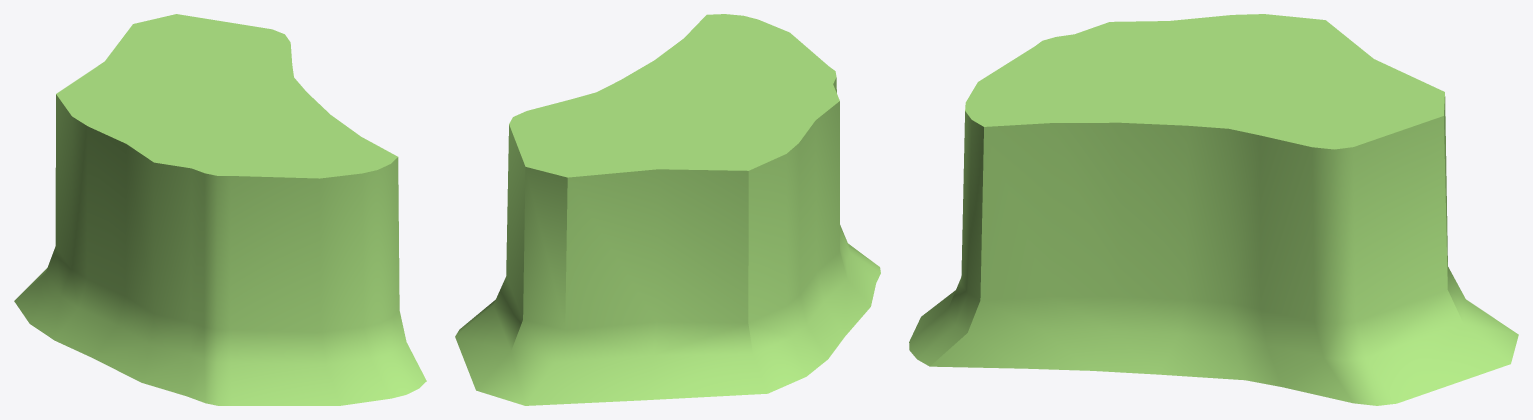
File: IslandNeutral2.fbx
3 renders of one model, left to right at view 1: azimuth 30°, elevation 25°; view 2: azimuth 150°, elevation 25°; view 3: azimuth 270°, elevation 25°, orthographic. The views are drawn at different scales.
Parts seen in each view (by area): view 1: IslandNeutral2; view 2: IslandNeutral2; view 3: IslandNeutral2.
Boxes of the visible parts, bbox=[...] form: IslandNeutral2: bbox=[14, 14, 426, 405]; IslandNeutral2: bbox=[455, 14, 880, 405]; IslandNeutral2: bbox=[909, 14, 1518, 405].
Bounding box in the file's own units: 13.09 × 5.61 × 8.75.
